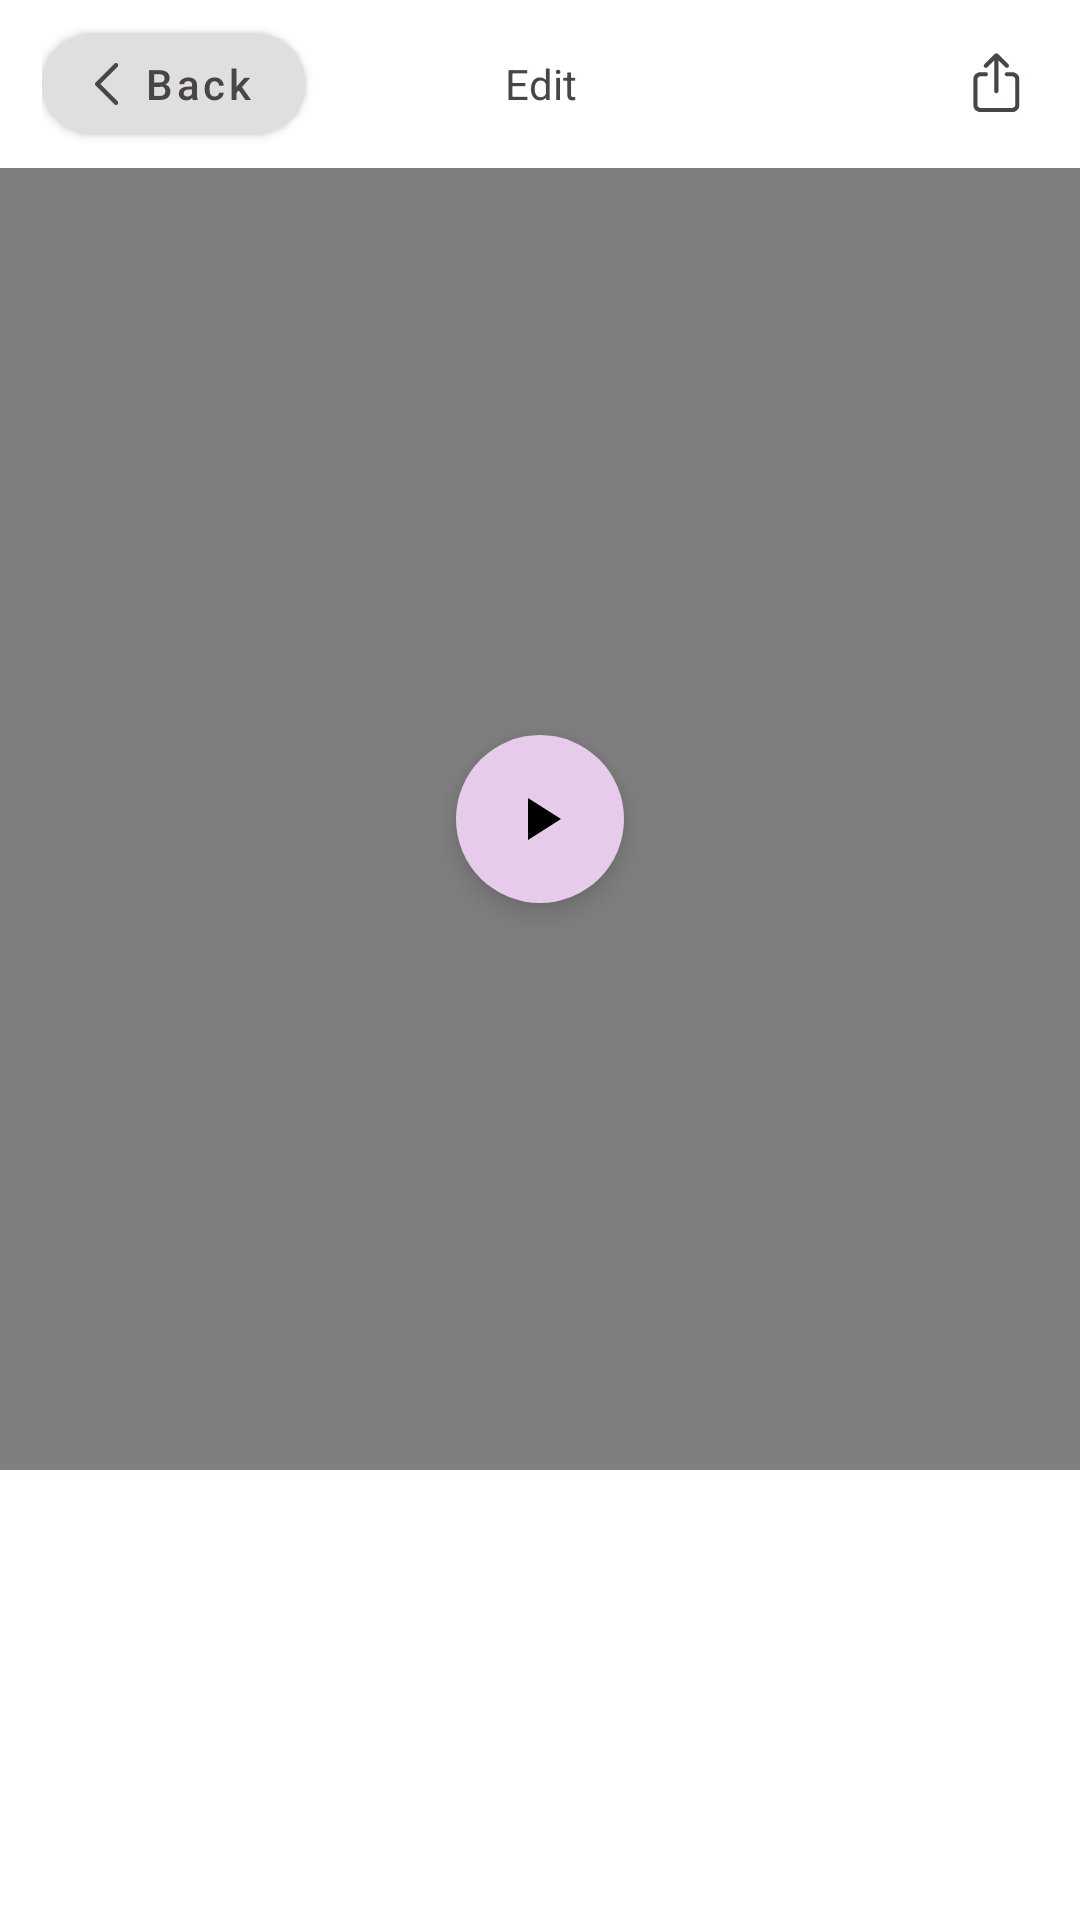

Icon bounding boxes for this 1080w x 1920h phone screenshot, format (x1=x1, y1=y1, x2=x2, y2=y2):
play arrow: (x1=456, y1=735, x2=624, y2=903)
